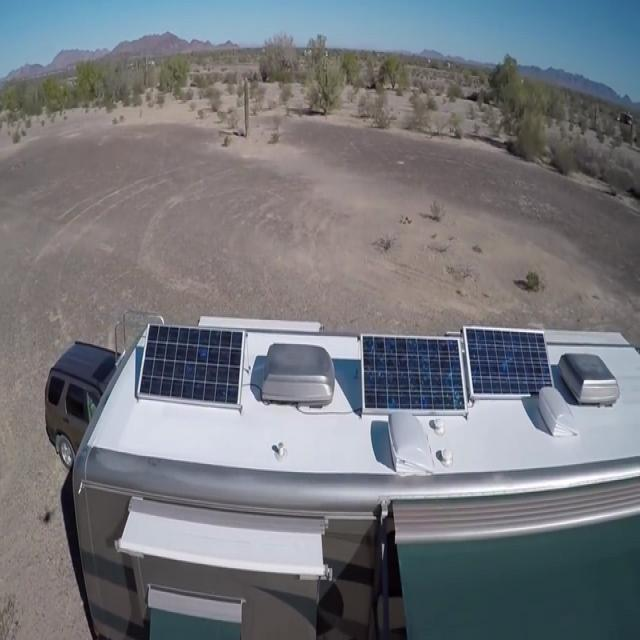Normal Solar Panel: (138, 325, 245, 405), (363, 336, 466, 410), (465, 328, 553, 394)
